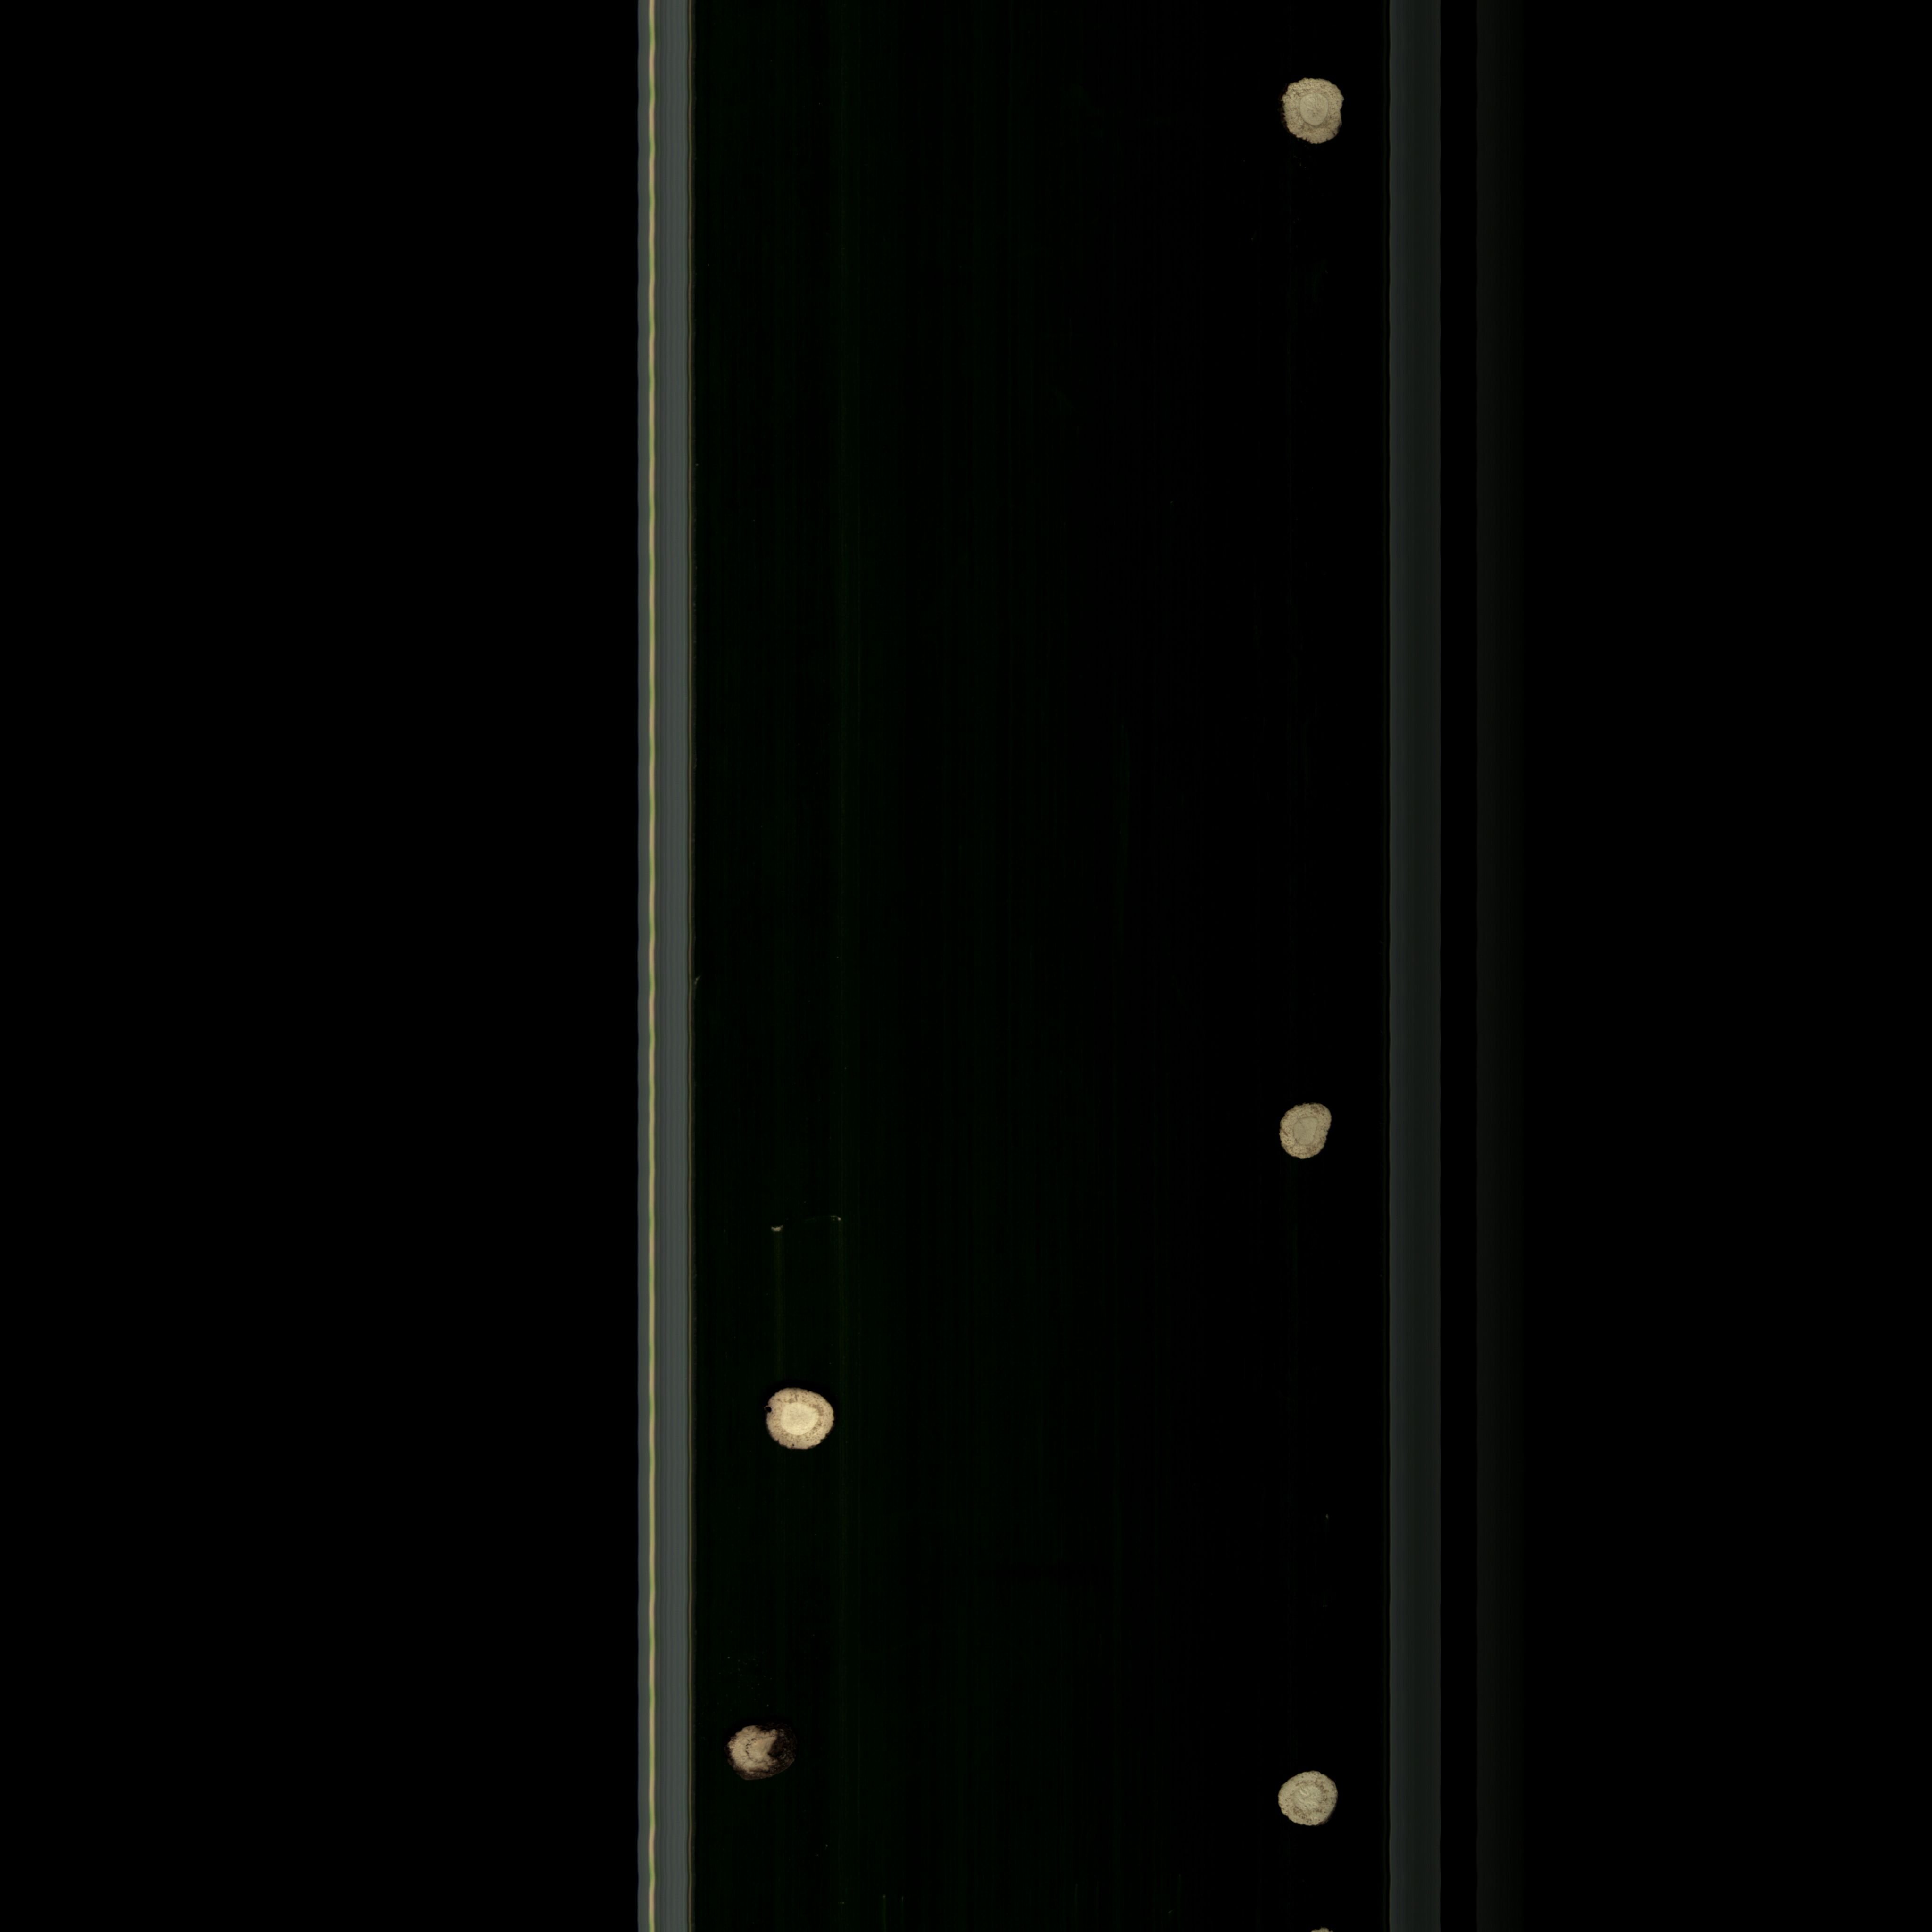moldy: (706, 1709, 823, 1789)
